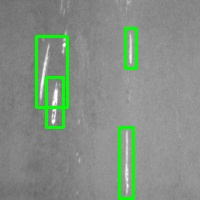scratches: (36, 36, 67, 107), (119, 127, 133, 198), (46, 77, 63, 127), (125, 28, 136, 68)
